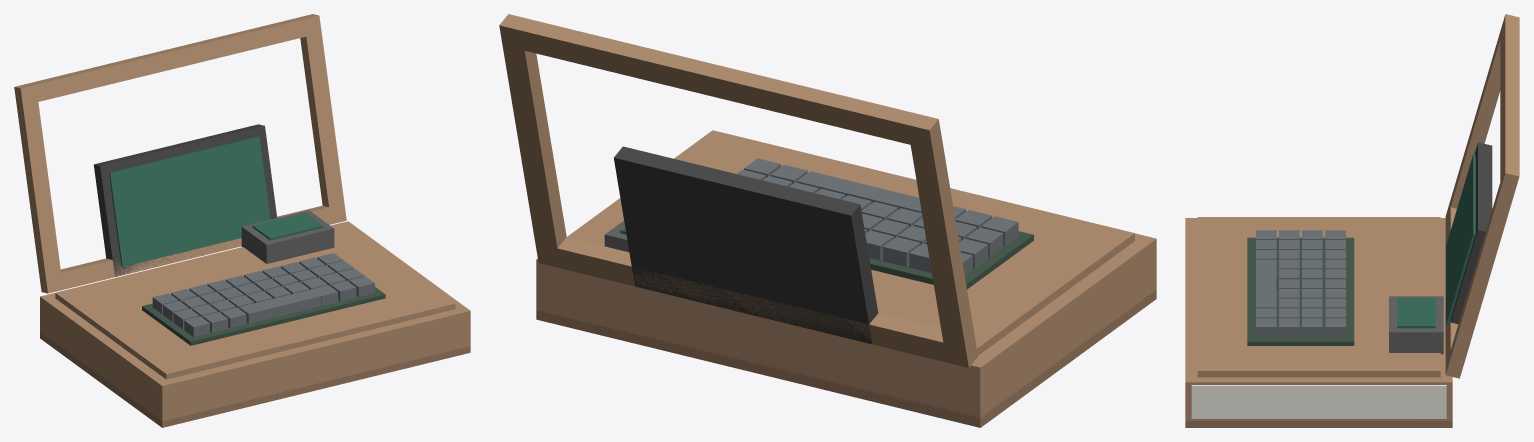
The model's file is build-stealth-book.glb.
The picture shows the model from 3 angles, left to right: view 1: azimuth 30°, elevation 25°; view 2: azimuth 150°, elevation 25°; view 3: azimuth 270°, elevation 25°; orthographic projection. The views are drawn at different scales.
Visible parts, largest first — view 1: geometry_1, geometry_0, geometry_9, geometry_4, geometry_8, geometry_6, geometry_7, geometry_2, geometry_5, geometry_51, geometry_10, geometry_52 (+2 smaller); view 2: geometry_8, geometry_0, geometry_1, geometry_4, geometry_5, geometry_6, geometry_7, geometry_2, geometry_10, geometry_46, geometry_13, geometry_41 (+1 smaller); view 3: geometry_1, geometry_3, geometry_0, geometry_10, geometry_4, geometry_7, geometry_9, geometry_8, geometry_6, geometry_51, geometry_2, geometry_52 (+6 smaller).
Boxes of the visible parts, x1,y1,x2,y2 form: geometry_1: (55, 222, 455, 379); geometry_0: (40, 221, 470, 421); geometry_9: (109, 136, 270, 266); geometry_4: (14, 14, 321, 105); geometry_8: (93, 124, 277, 276); geometry_6: (14, 86, 62, 293); geometry_7: (298, 15, 346, 223); geometry_2: (40, 331, 470, 427); geometry_5: (39, 204, 346, 293); geometry_51: (241, 210, 334, 263); geometry_10: (142, 287, 385, 345); geometry_52: (252, 212, 323, 240); geometry_8: (614, 146, 878, 344); geometry_0: (536, 130, 1156, 418); geometry_1: (572, 131, 1134, 355); geometry_4: (499, 14, 941, 149); geometry_5: (535, 237, 977, 367); geometry_6: (907, 114, 977, 367); geometry_7: (499, 14, 566, 267); geometry_2: (536, 290, 1156, 427); geometry_10: (869, 231, 1033, 289); geometry_46: (820, 177, 915, 208); geometry_13: (883, 237, 920, 266); geometry_41: (981, 216, 1018, 246); geometry_1: (1197, 217, 1440, 377); geometry_3: (1191, 385, 1446, 418); geometry_0: (1185, 218, 1452, 420); geometry_10: (1247, 237, 1354, 345); geometry_4: (1500, 14, 1519, 193); geometry_7: (1445, 168, 1519, 377); geometry_9: (1446, 154, 1475, 326); geometry_8: (1445, 142, 1492, 337); geometry_6: (1445, 14, 1519, 223); geometry_51: (1389, 296, 1443, 354); geometry_2: (1185, 419, 1452, 427); geometry_52: (1397, 298, 1435, 328).
Bounding box in the file's own units: 0.322 × 0.2291 × 0.275.
